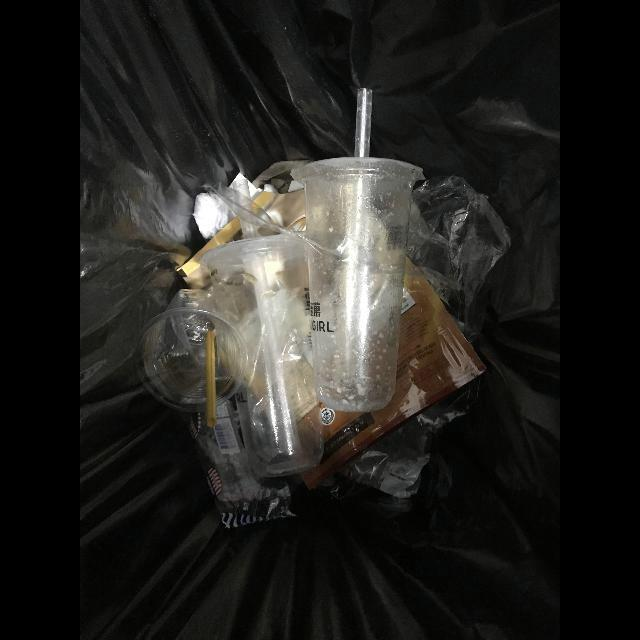food_wrapper: (302, 257, 486, 491), (188, 394, 297, 530)
paper: (192, 193, 237, 239)
plastic_bag: (406, 174, 512, 325)
plastic_container: (290, 157, 424, 414), (199, 235, 324, 476)
